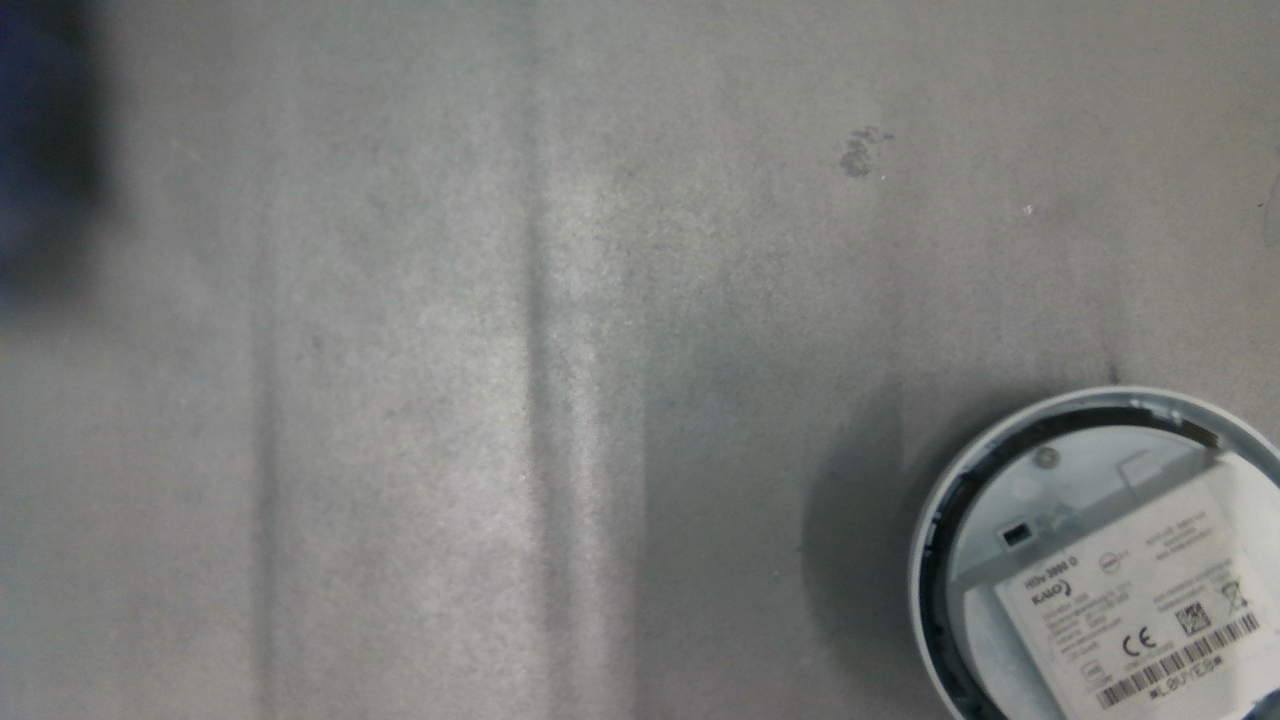HexScrew: (1033, 446, 1060, 471)
